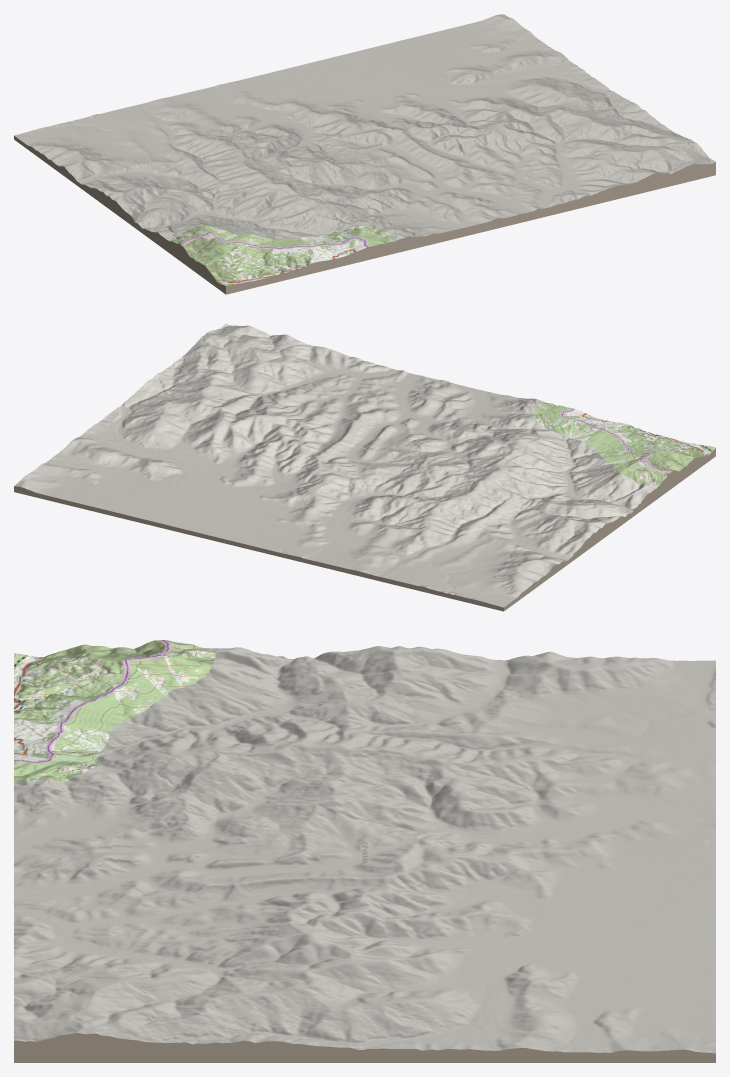
3 renders of one model, top to bottom at view 1: azimuth 30°, elevation 25°; view 2: azimuth 150°, elevation 25°; view 3: azimuth 270°, elevation 25°, orthographic. The views are drawn at different scales.
Visible parts, largest first — view 1: BV50-D6 Pilișca; view 2: BV50-D6 Pilișca; view 3: BV50-D6 Pilișca.
Boxes of the visible parts, x1,y1,x2,y2 form: BV50-D6 Pilișca: (14, 14, 715, 294); BV50-D6 Pilișca: (14, 323, 715, 611); BV50-D6 Pilișca: (14, 640, 715, 1062).
Bounding box in the file's own units: 20000 × 867 × 15002.
Materials: 3 (1 with a texture image).
